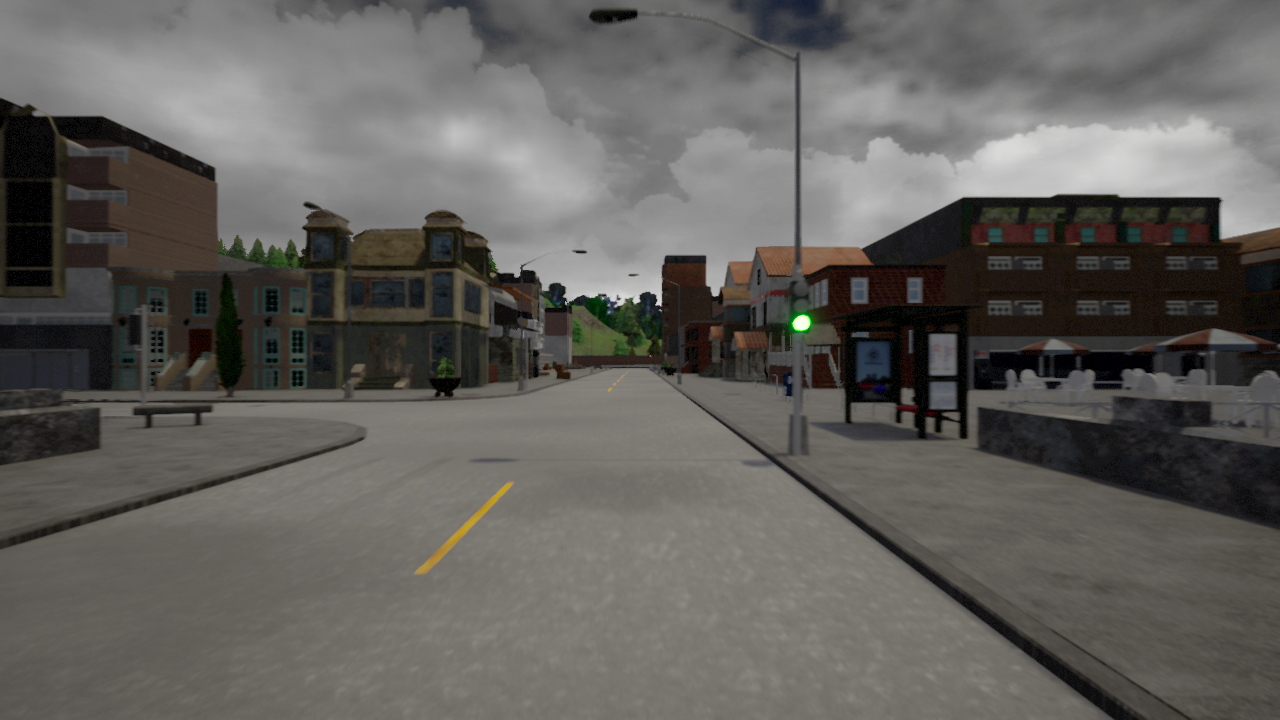green: (787, 277, 810, 333)
